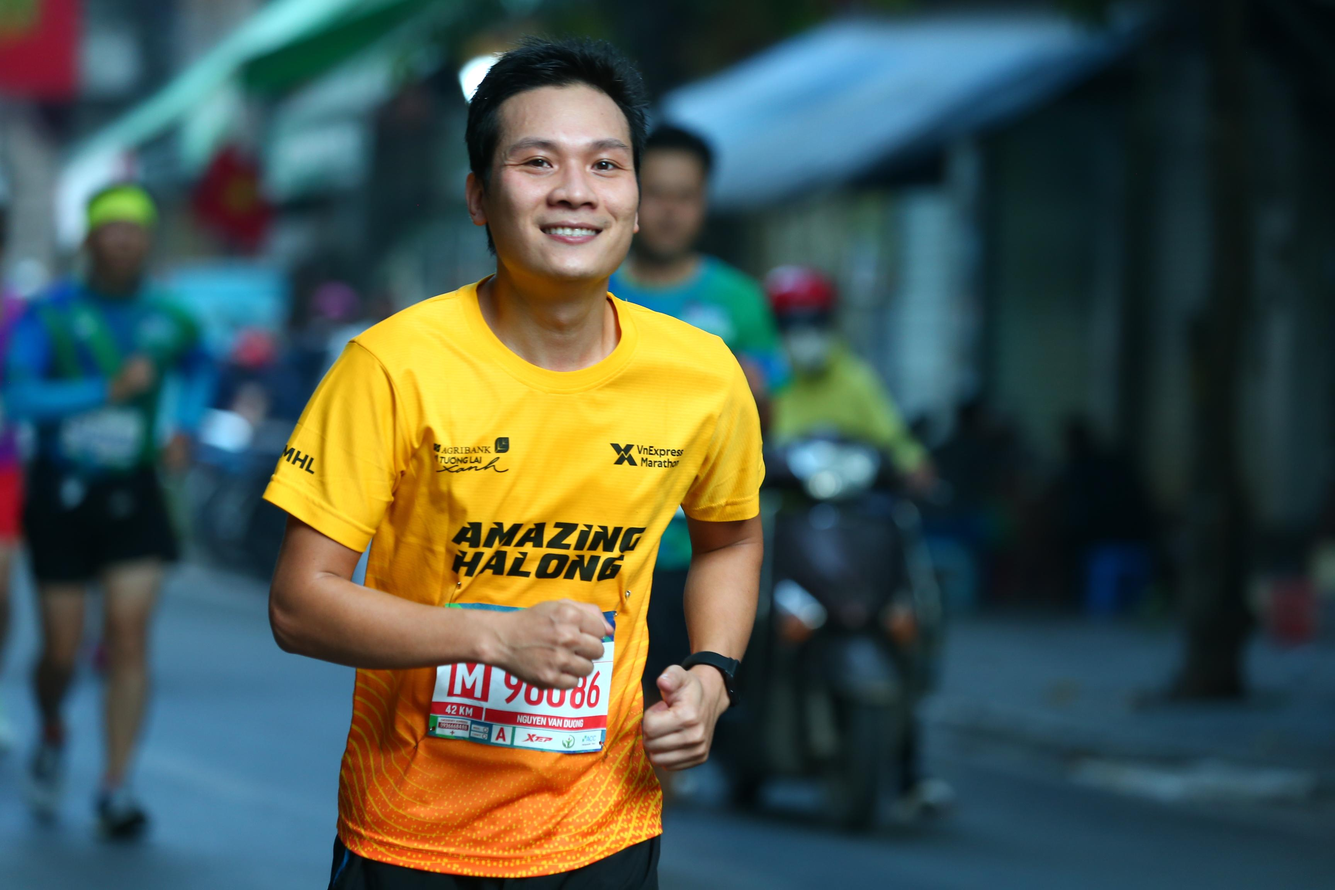bib: (434, 617, 614, 752)
